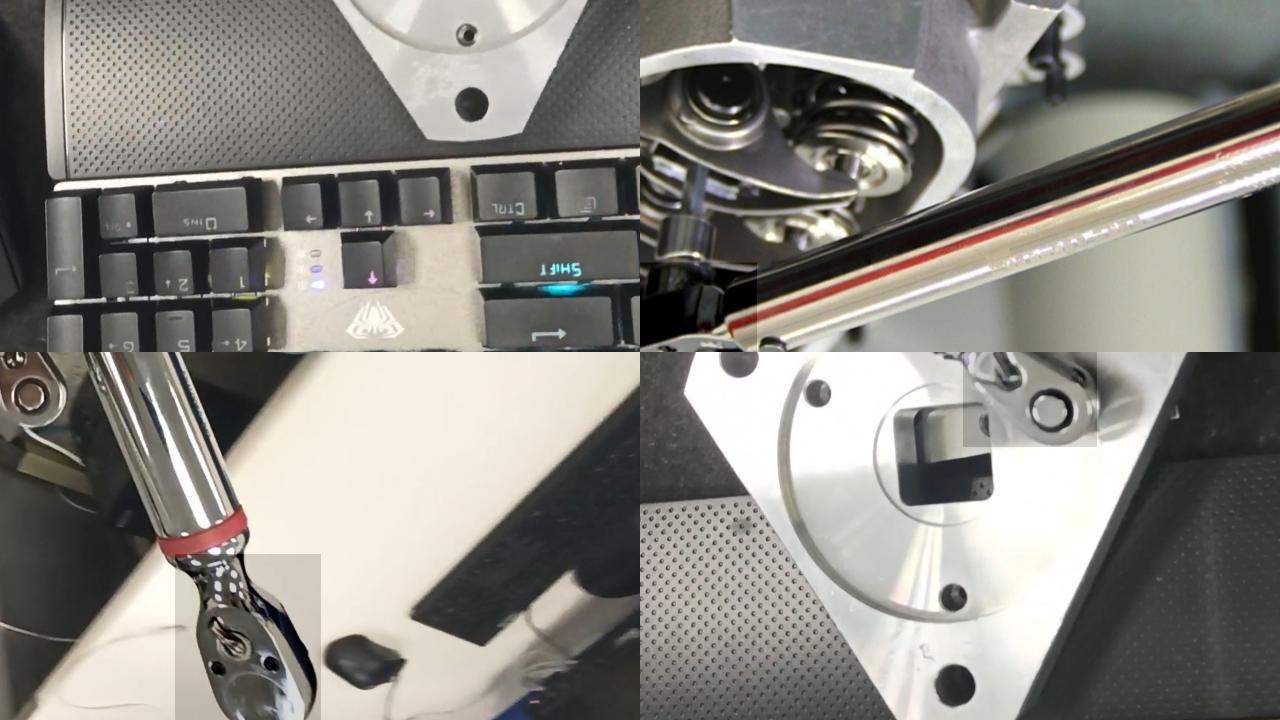Tool: (175, 554, 321, 720), (963, 352, 1097, 447), (640, 262, 757, 352), (0, 352, 65, 427)
